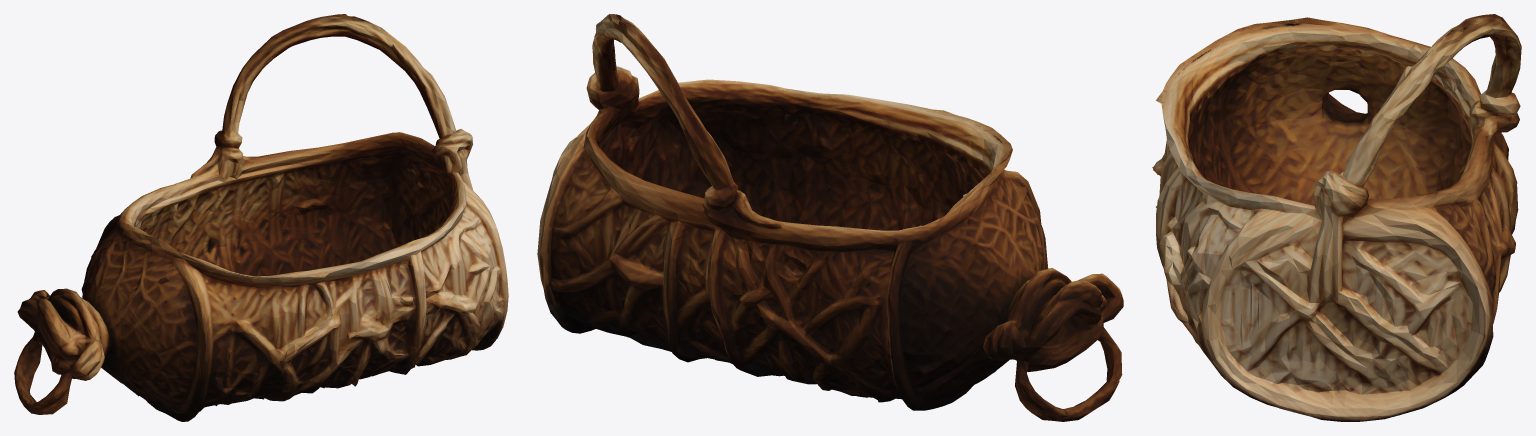
Rendered from jute-water-bottle-holder-vintage.jpeg.glb.
The picture shows the model from 3 angles, left to right: view 1: azimuth 30°, elevation 25°; view 2: azimuth 150°, elevation 25°; view 3: azimuth 270°, elevation 25°; orthographic projection. The views are drawn at different scales.
Visible parts, largest first — view 1: world; view 2: world; view 3: world.
Part boxes in pixels (bbox=[...]): world: bbox=[14, 14, 508, 421]; world: bbox=[537, 14, 1123, 421]; world: bbox=[1152, 14, 1521, 421].
Bounding box in the file's own units: 0.982 × 0.6381 × 0.5882.
Materials: 1 (1 with a texture image).
